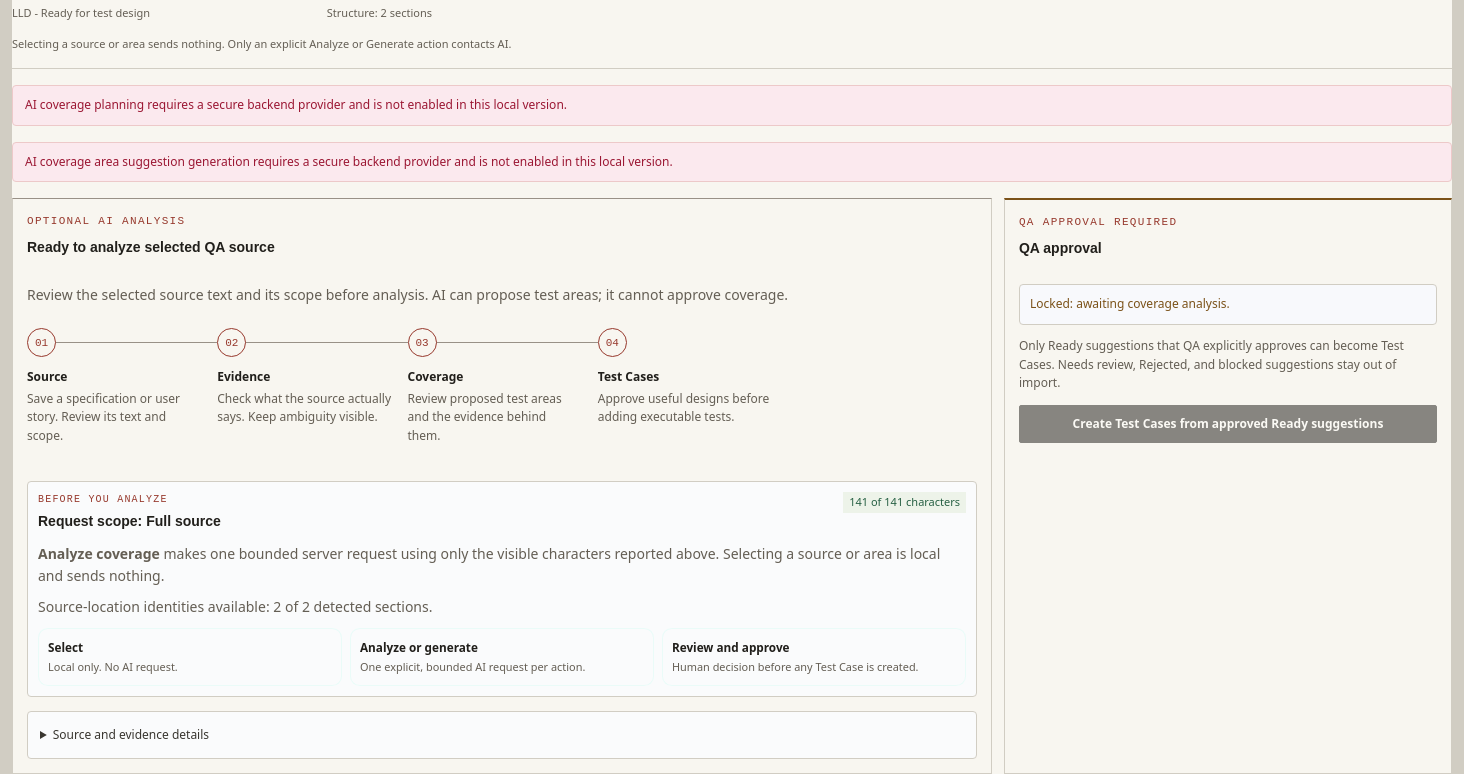
Test case: AiSuggestionsPage › shows compact source structure context inside the Global coverage & suggestions
(page scrolled)
expect the text "Structure: 2 sections" is shown: met, box x1=327 y1=4 x2=432 y2=21
Click the heading "Source and evidence details" at x=131, y=734, box x1=53 y1=726 x2=209 y2=743
(page scrolled)
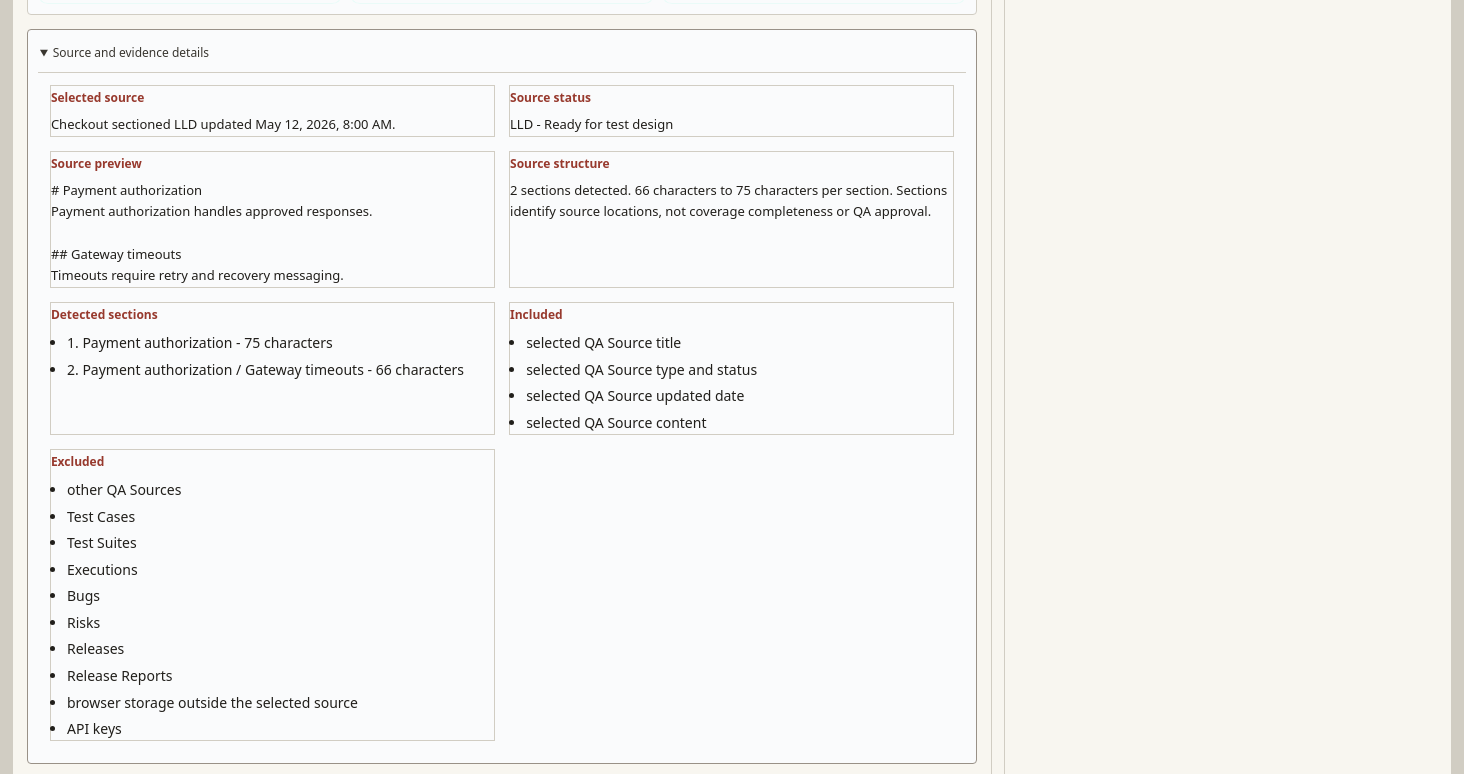
expect the text "Sections identify source locations" is shown: met, box x1=510 y1=181 x2=950 y2=220
expect the text "Detected sections" is shown: met, box x1=51 y1=306 x2=158 y2=323
expect the list item "1. Payment authorization - 75 characters" is shown: met, box x1=67 y1=333 x2=333 y2=352
